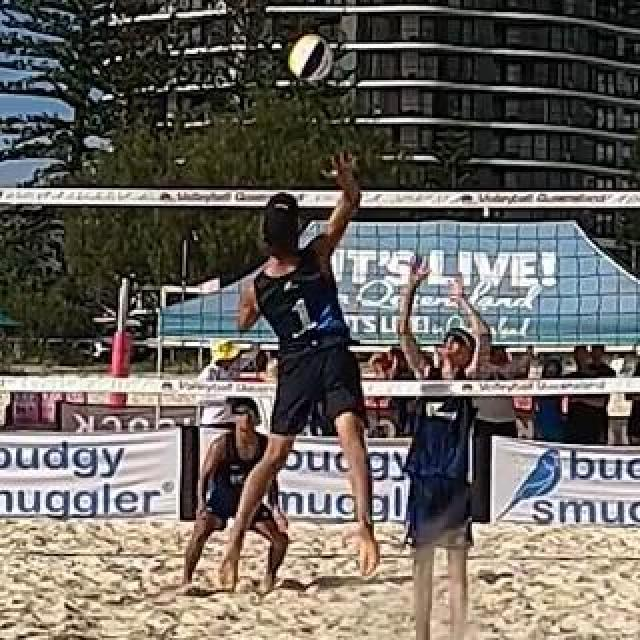volleyball: (287, 35, 331, 79)
